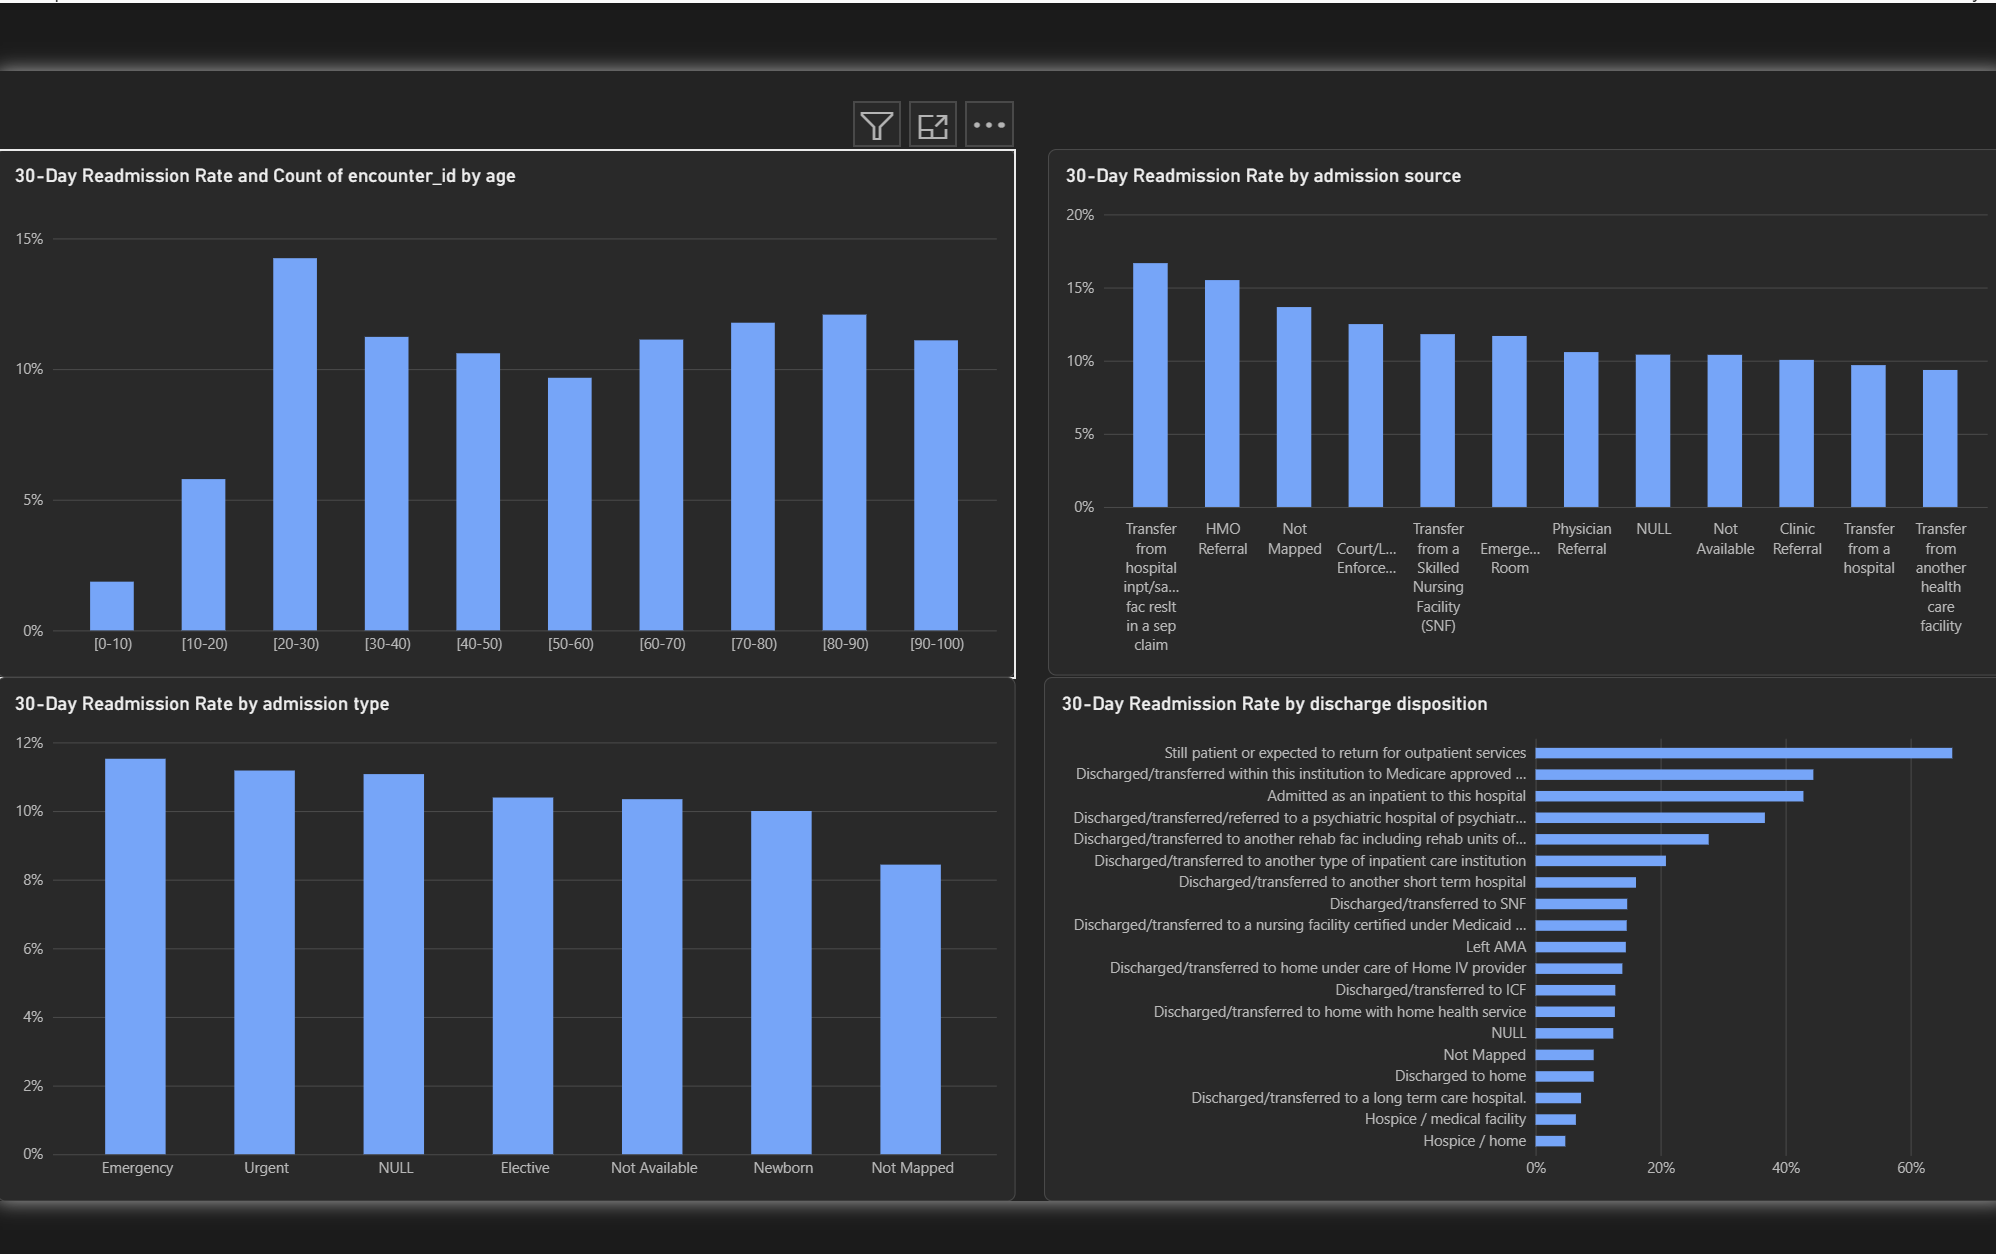

The dashboard page shown, as its layout file describes it:
{"tool":"powerbi","page":{"name":"Readmission factors","canvas":[1920,1080],"ordinal":1},"visuals":[{"type":"clusteredColumnChart","fields":{"Category":["Sheet1.age"],"Y":["Sheet1.30-Day Readmission Rate"]},"box":[0,75.3,972.9,505.3],"z":0},{"type":"clusteredColumnChart","title":"30-Day Readmission Rate by admission source","fields":{"Category":["public admission_source_map.description"],"Y":["Sheet1.30-Day Readmission Rate"]},"box":[1004.6,75.3,915.4,503.3],"z":1},{"type":"clusteredColumnChart","title":"30-Day Readmission Rate by admission type","fields":{"Category":["public admission_type_map.description"],"Y":["Sheet1.30-Day Readmission Rate"]},"box":[0,578.6,972.9,501.3],"z":2},{"type":"clusteredBarChart","title":"30-Day Readmission Rate by discharge disposition","fields":{"Category":["public discharge_disposition_map.description"],"Y":["Sheet1.30-Day Readmission Rate"]},"box":[1000.6,578.6,919.4,501.3],"z":3}]}

Visuals, with their boxes on the page's 1920x1080 design canvas (x1, y1, x2, y2). These are canvas units, not pixel positions in the 1996x1254 screenshot, which may show the page scaled, cropped or inside an application window:
clusteredColumnChart - Sheet1.age x Sheet1.30-Day Readmission Rate: <bbox>0, 75, 973, 581</bbox>
"30-Day Readmission Rate by admission source" clusteredColumnChart: <bbox>1005, 75, 1920, 579</bbox>
"30-Day Readmission Rate by admission type" clusteredColumnChart: <bbox>0, 579, 973, 1080</bbox>
"30-Day Readmission Rate by discharge disposition" clusteredBarChart: <bbox>1001, 579, 1920, 1080</bbox>
